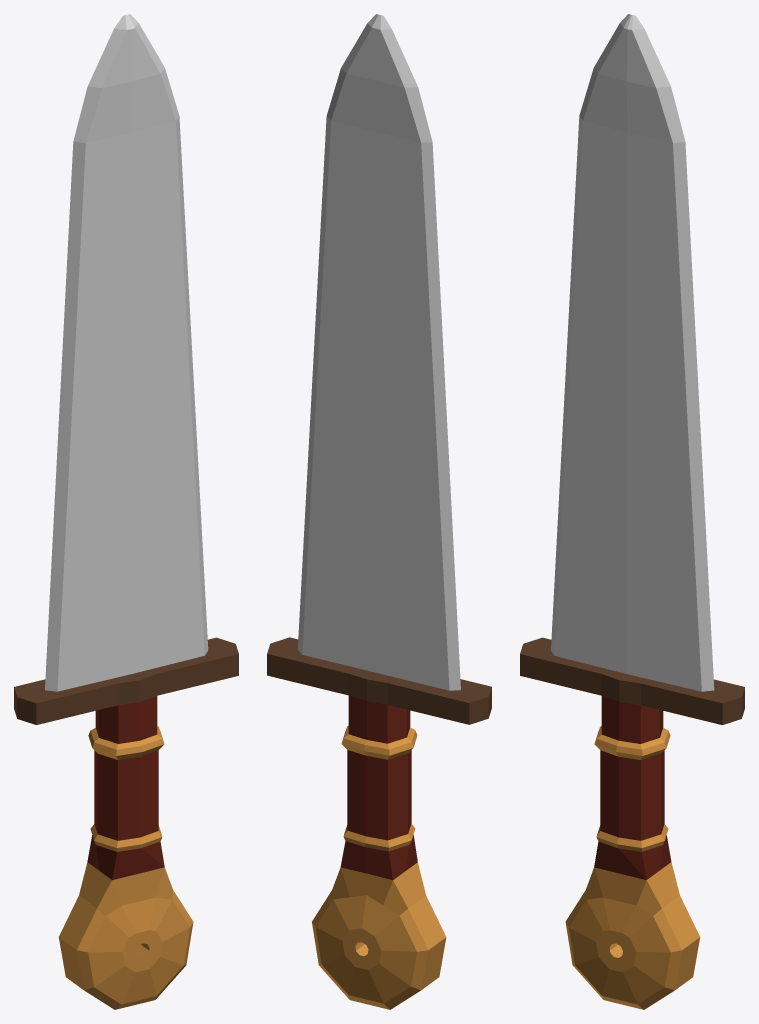
Rendered from ShortSword.glb.
3 renders of one model, left to right at view 1: azimuth 30°, elevation 25°; view 2: azimuth 150°, elevation 25°; view 3: azimuth 330°, elevation 25°, orthographic.
Parts seen in each view (by area): view 1: ShortSword; view 2: ShortSword; view 3: ShortSword.
Part boxes in pixels (bbox=[...]): ShortSword: bbox=[14, 14, 238, 1009]; ShortSword: bbox=[267, 14, 491, 1009]; ShortSword: bbox=[520, 14, 744, 1009].
Bounding box in the file's own units: 0.8021 × 3.45 × 0.216.
